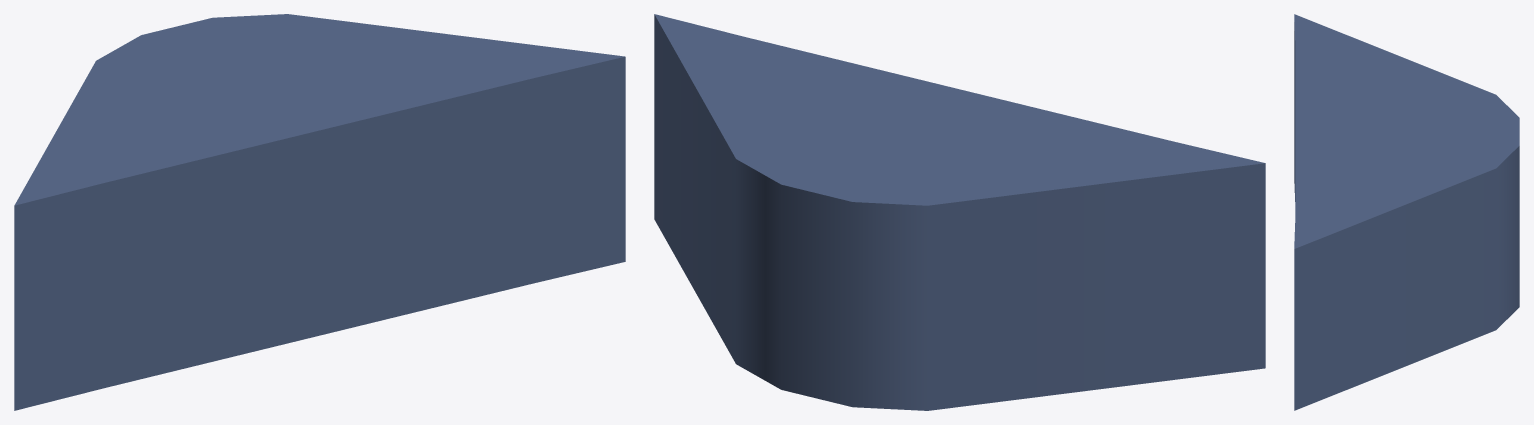
File: Ring_02_Bumper_01.fbx
3 views of the same model, side by side, from view 1: azimuth 30°, elevation 25°; view 2: azimuth 150°, elevation 25°; view 3: azimuth 270°, elevation 25° (orthographic). The views are drawn at different scales.
Visible parts, largest first — view 1: Ring_02_Bumper_01; view 2: Ring_02_Bumper_01; view 3: Ring_02_Bumper_01.
Part boxes in pixels (<box>): Ring_02_Bumper_01: <box>14,14,625,410</box>; Ring_02_Bumper_01: <box>654,14,1265,410</box>; Ring_02_Bumper_01: <box>1294,14,1519,410</box>.
Size of the model in its own units: 24.81 by 7.96 by 10.06.
